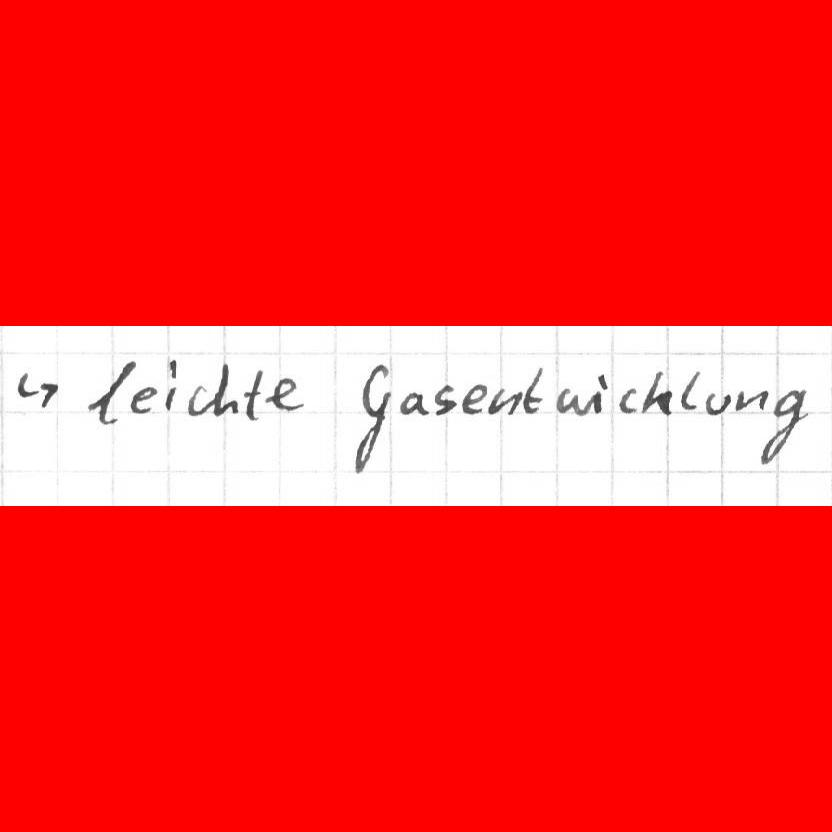Char: (351, 360, 393, 477), (758, 388, 811, 468), (87, 359, 134, 425), (15, 367, 59, 411), (641, 367, 674, 418), (210, 362, 240, 417), (267, 373, 305, 414), (552, 385, 593, 417), (521, 364, 545, 416), (243, 366, 264, 422), (163, 357, 180, 415), (460, 381, 487, 417), (489, 386, 519, 417), (734, 387, 768, 414), (430, 381, 455, 416), (590, 371, 609, 417), (679, 370, 700, 411), (399, 388, 427, 418), (186, 384, 210, 417), (130, 385, 156, 414), (705, 389, 730, 416), (617, 385, 638, 417)
